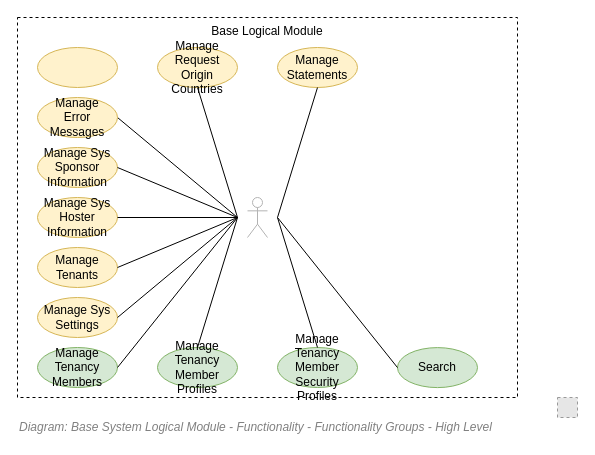
Image size: 595x455. Some labels were removed from this diagram. Grey dashed boxes stand in for pictures. Each missing label, with the box of its shape:
Manage Diagnostics: (36, 46, 118, 88)
User: (246, 196, 268, 238)
